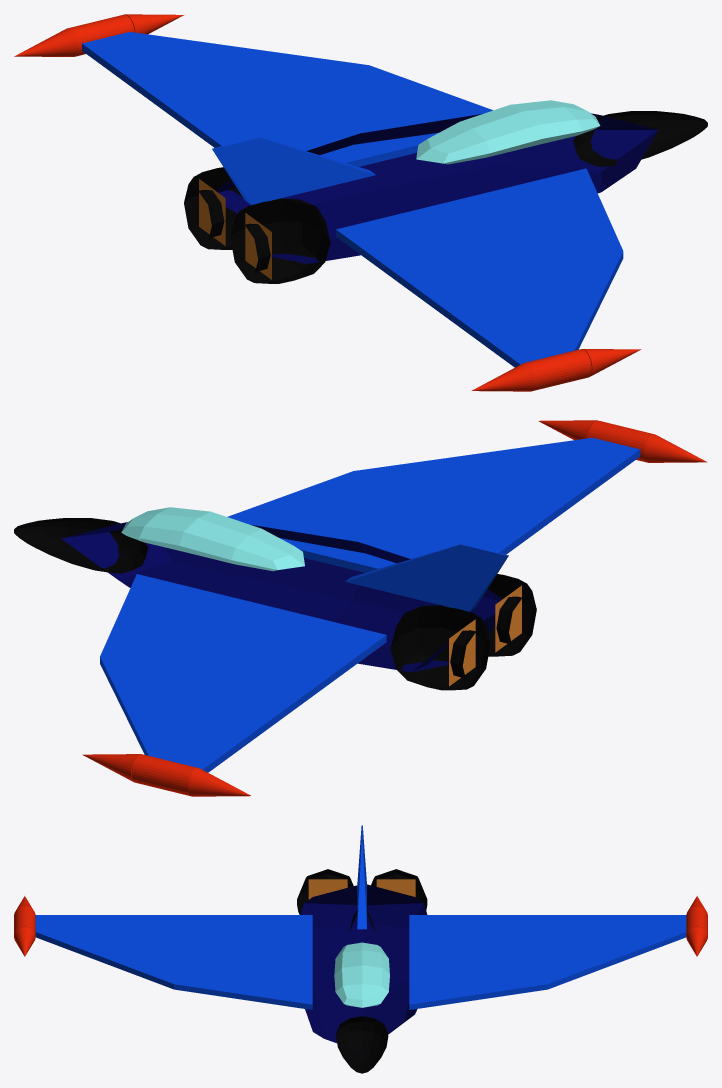
File: airplane.glb
The picture shows the model from 3 angles, top to bottom: view 1: azimuth 30°, elevation 25°; view 2: azimuth 150°, elevation 25°; view 3: azimuth 270°, elevation 25°; orthographic projection. The views are drawn at different scales.
Visible parts, largest first — view 1: Airplane; view 2: Airplane; view 3: Airplane.
Boxes of the visible parts, bbox=[...] form: Airplane: bbox=[14, 14, 707, 391]; Airplane: bbox=[14, 420, 707, 796]; Airplane: bbox=[14, 825, 707, 1073].
Bounding box in the file's own units: 12.36 × 3.01 × 20.37.
